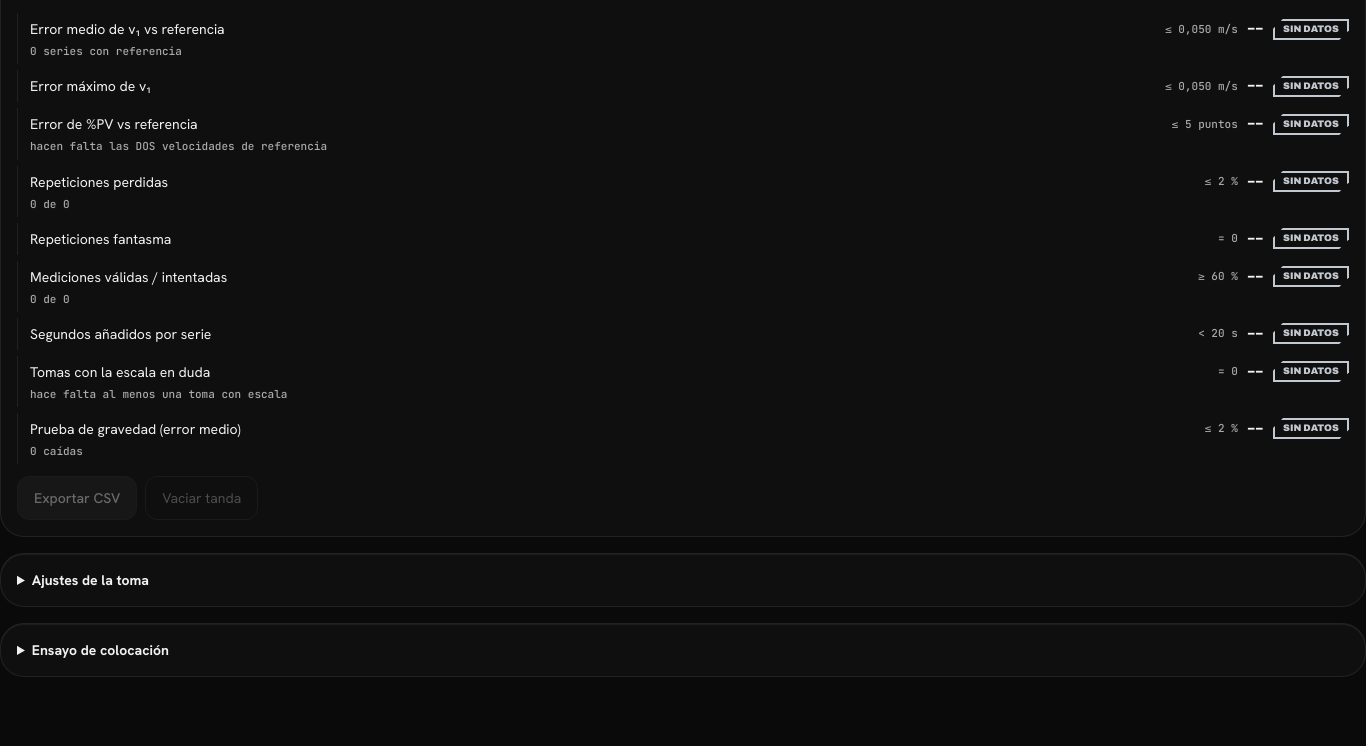
EncoderPage › la g del sitio no es 9,81
The image size is (1366, 746).
(page scrolled)
Click the heading "Ajustes de la toma".
click(90, 580)  # box [32,571,149,589]
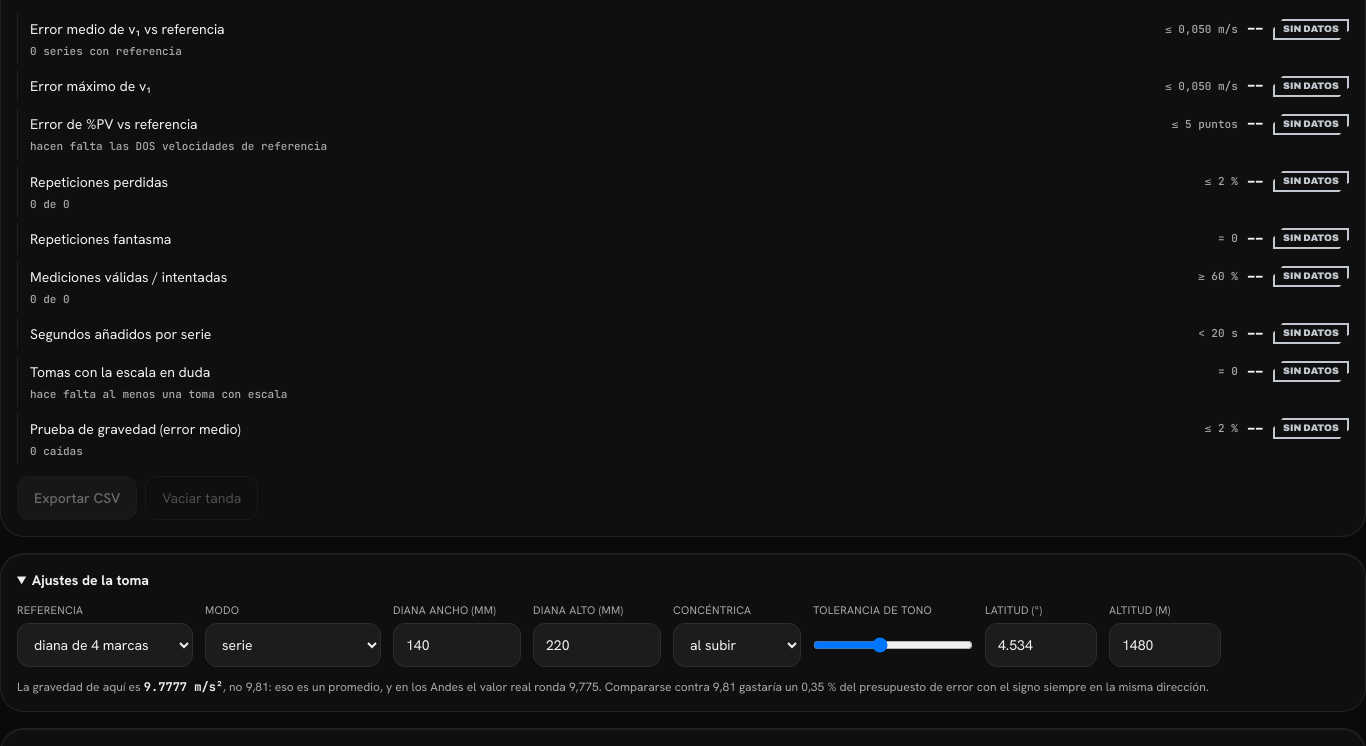
Expected: the text "9.7777 m/s²" is shown, [144,679,223,695]
